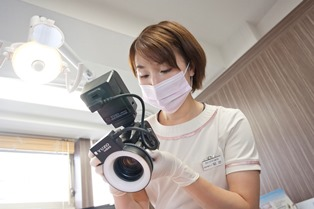mask: (141, 72, 194, 114)
